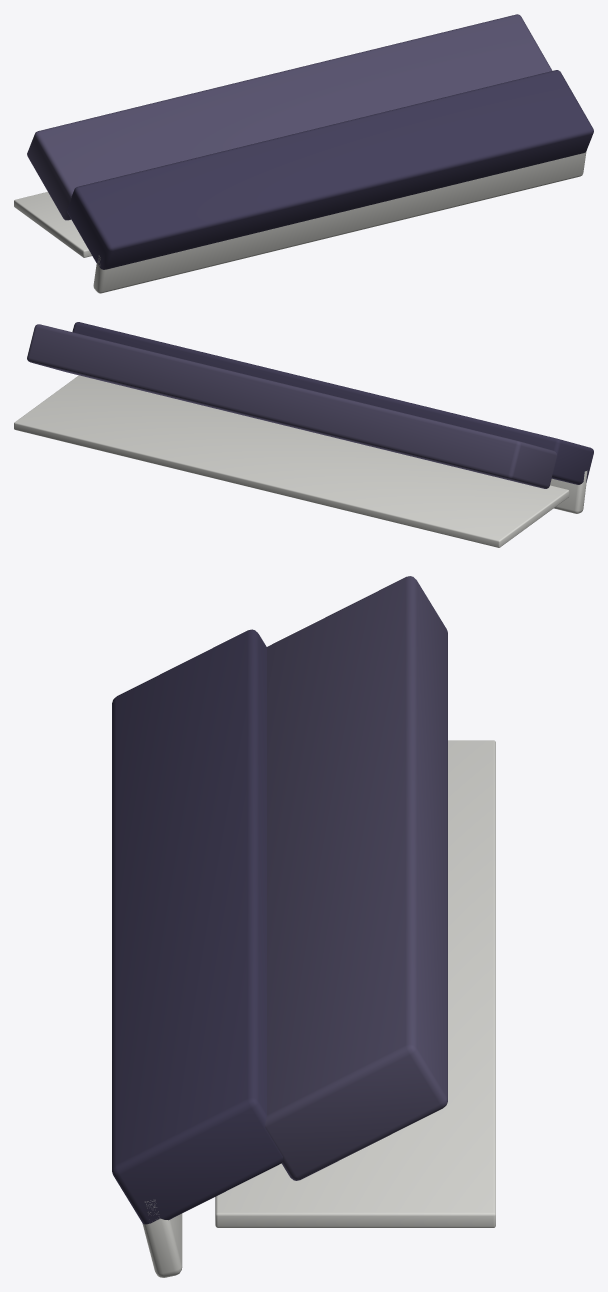
File: roof_eave.glb
3 renders of one model, top to bottom at view 1: azimuth 30°, elevation 25°; view 2: azimuth 150°, elevation 25°; view 3: azimuth 270°, elevation 25°, orthographic. The views are drawn at different scales.
Parts seen in each view (by area): view 1: roof_eave; view 2: roof_eave; view 3: roof_eave.
Boxes of the visible parts, x1,y1,x2,y2 form: roof_eave: (14, 14, 593, 293); roof_eave: (14, 322, 593, 547); roof_eave: (112, 576, 495, 1277).
Bounding box in the file's own units: 2 × 0.458 × 0.6844.
